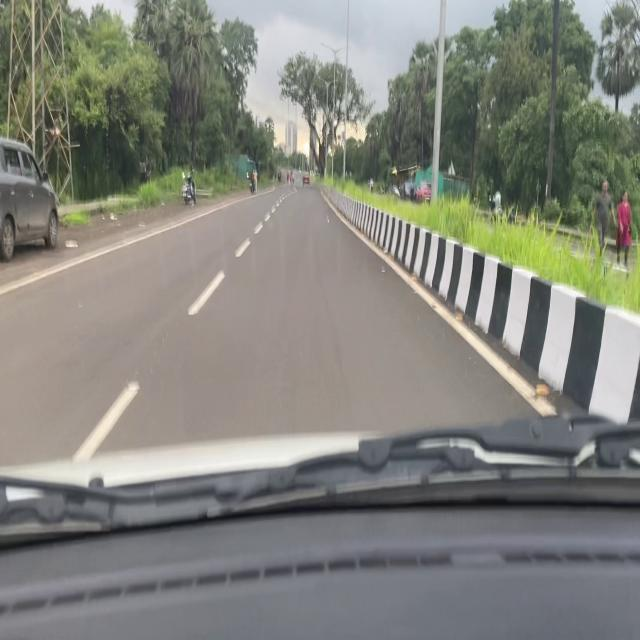lane: (63, 190, 289, 471), (311, 185, 569, 420), (1, 195, 244, 301)
